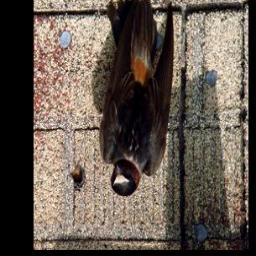Swallow: (100, 0, 176, 198)
